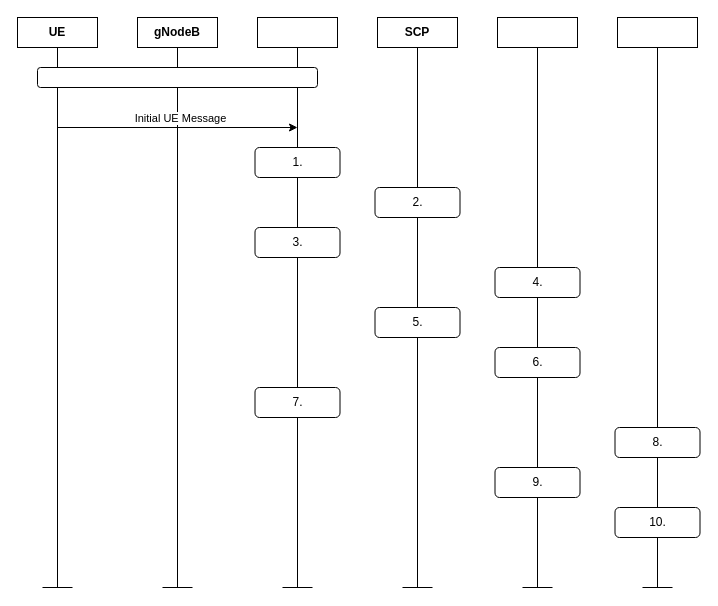
Image size: 718x606. Some labels were removed from this diagram. Each missing label, with the centre of its shape:
"AMF" goes at (x=297, y=32).
"gNodeB Registration" goes at (x=177, y=77).
"SMF" goes at (x=537, y=32).
"UPF" goes at (x=657, y=32).
